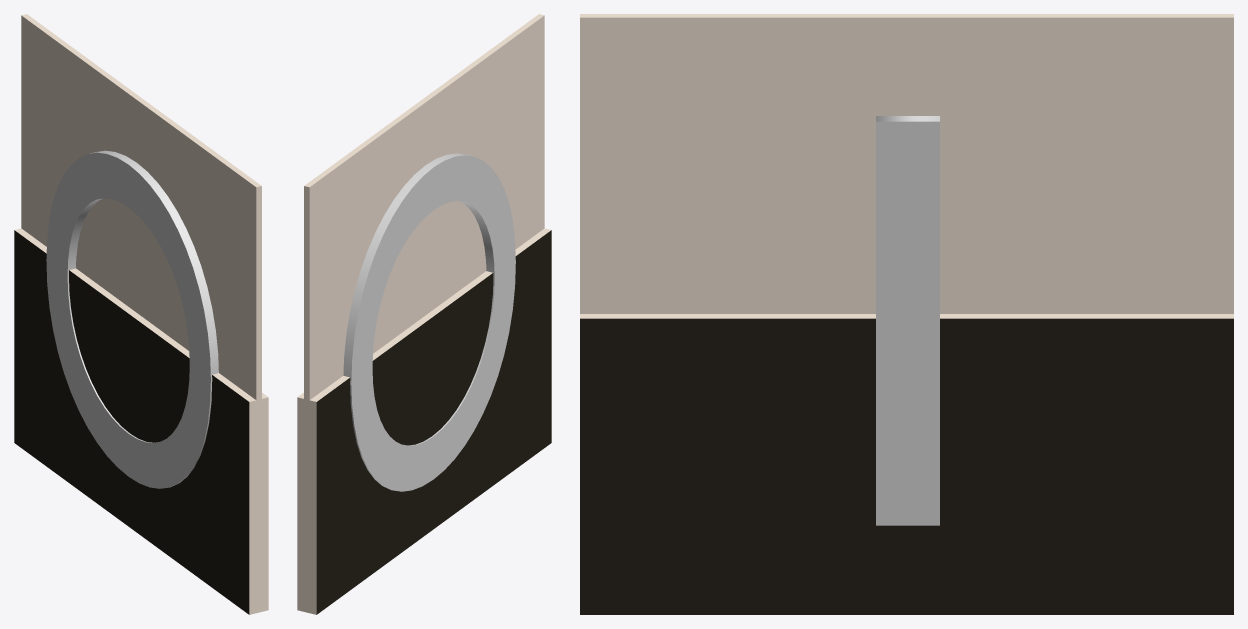
File: wall.fbx
3 views of the same model, side by side, from view 1: azimuth 30°, elevation 25°; view 2: azimuth 150°, elevation 25°; view 3: azimuth 270°, elevation 25° (orthographic). The views are drawn at different scales.
Visible parts, largest first — view 1: Cube, Text.001; view 2: Cube, Text.001; view 3: Cube, Text.
Part boxes in pixels (x1,y1,x2,y2): Cube: (14, 14, 268, 614); Text.001: (46, 150, 218, 488); Cube: (297, 14, 551, 614); Text.001: (343, 153, 515, 491); Cube: (580, 14, 1233, 614); Text: (876, 116, 939, 525).
Bounding box in the file's own units: 5.45 × 100 × 100.
